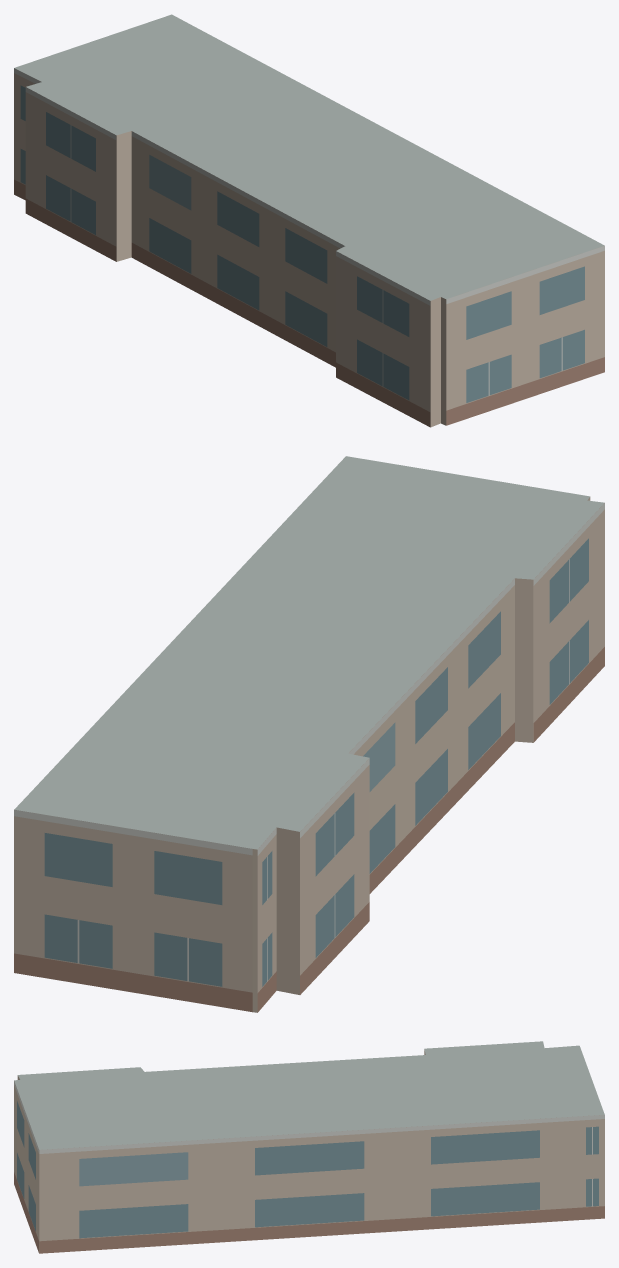
File: survey-upis-32751324.glb
The picture shows the model from 3 angles, top to bottom: view 1: azimuth 30°, elevation 25°; view 2: azimuth 150°, elevation 25°; view 3: azimuth 270°, elevation 25°; orthographic projection. The views are drawn at different scales.
Visible parts, largest first — view 1: survey-upis-32751324.tmp; view 2: survey-upis-32751324.tmp; view 3: survey-upis-32751324.tmp.
Boxes of the visible parts, <box> form: survey-upis-32751324.tmp: <box>14,14,604,427</box>; survey-upis-32751324.tmp: <box>14,456,604,1012</box>; survey-upis-32751324.tmp: <box>14,1041,604,1253</box>.
Size of the model in its own units: 13.72 by 6.1 by 31.5.
